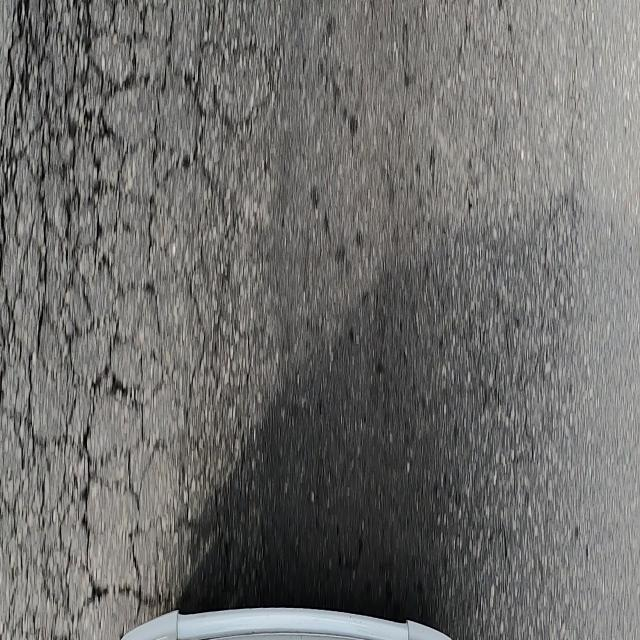Retak-Buaya: (0, 0, 273, 640)
